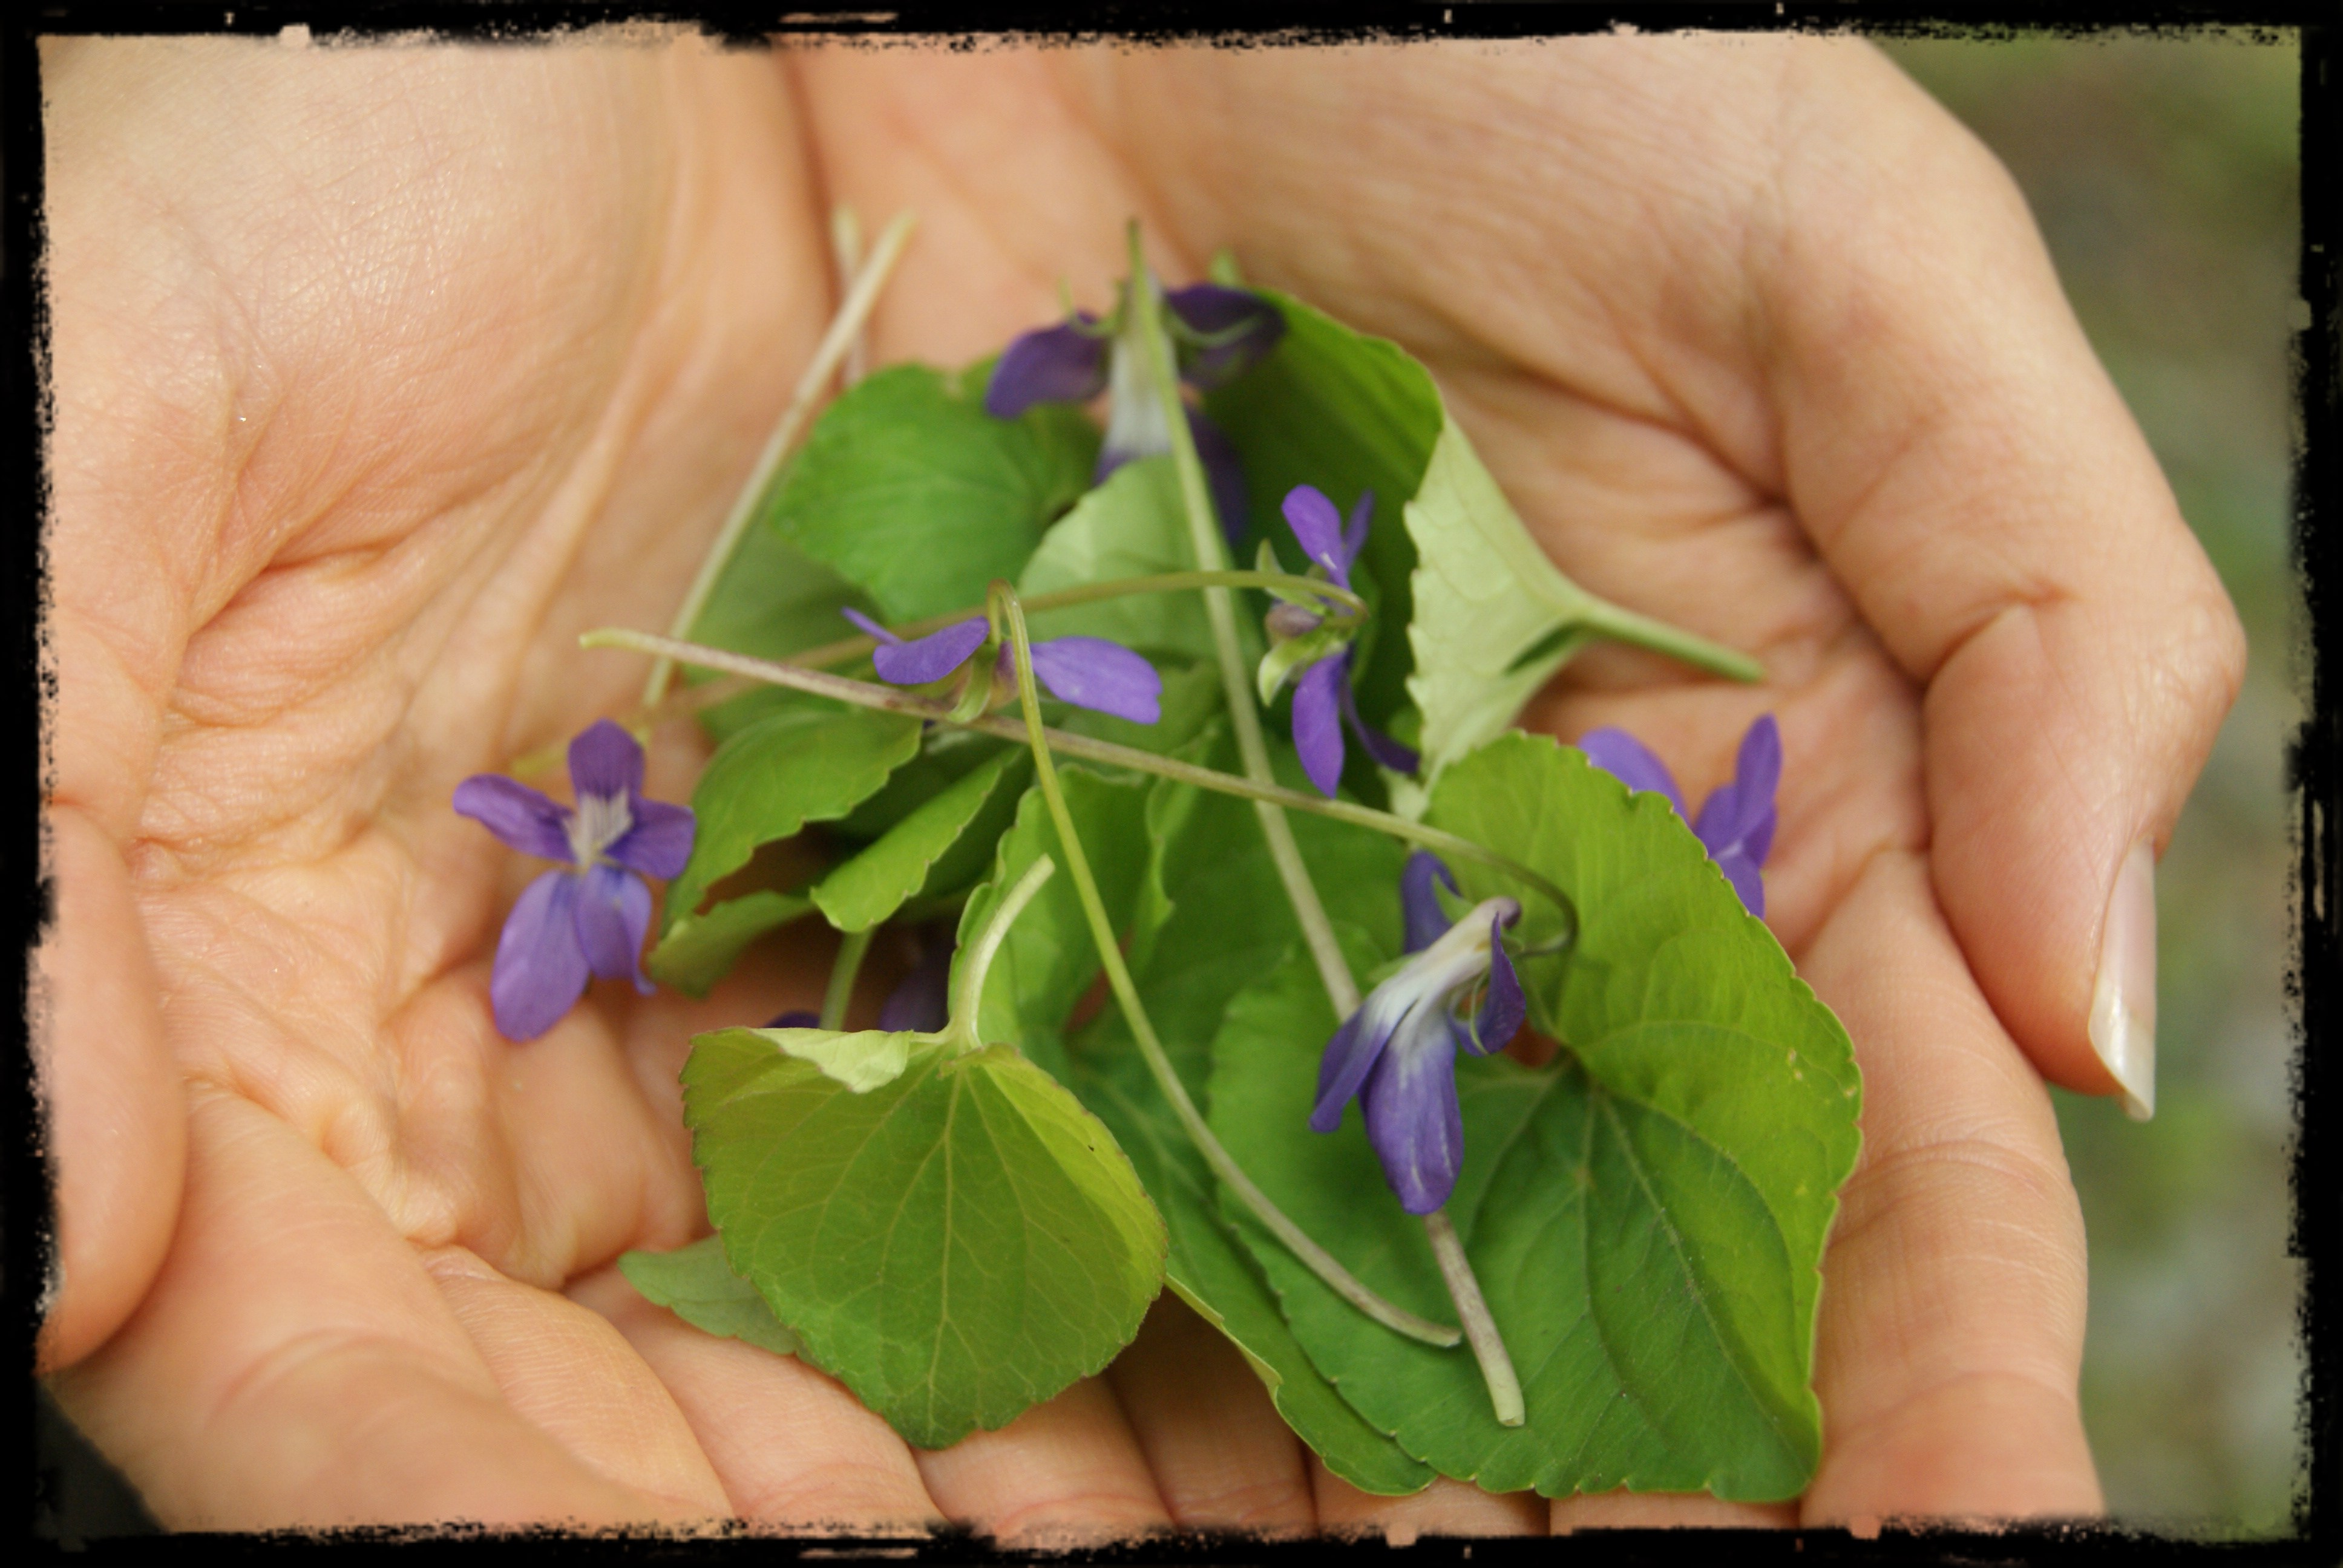violet: (373, 721, 696, 978), (1311, 833, 1517, 1199), (1216, 471, 1431, 777), (868, 563, 1160, 775)
